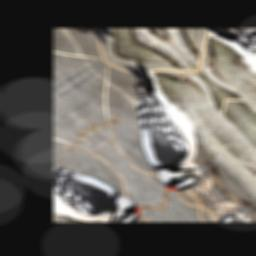Woodpecker: (77, 56, 238, 198)
